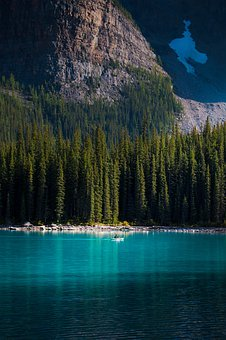forest: (4, 116, 222, 222)
lake: (5, 226, 226, 340)
mountain: (7, 4, 226, 222)
tree: (80, 148, 100, 223), (50, 146, 70, 221), (22, 144, 42, 219), (151, 143, 171, 218)
